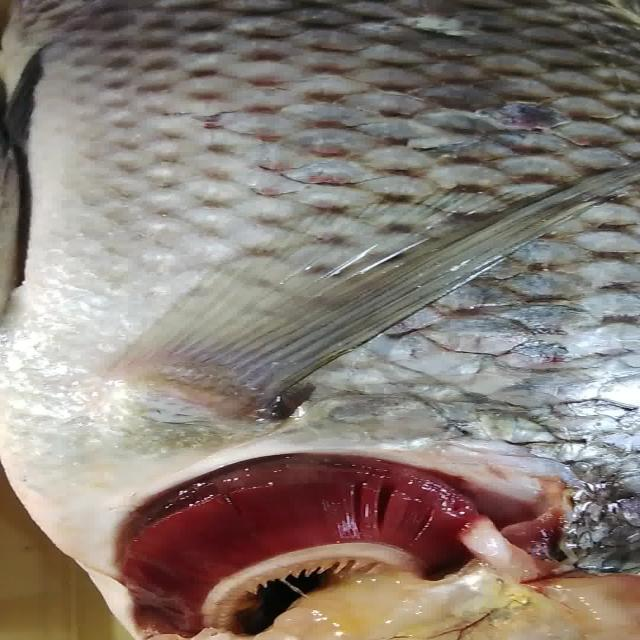Fresh: (81, 450, 518, 604)
